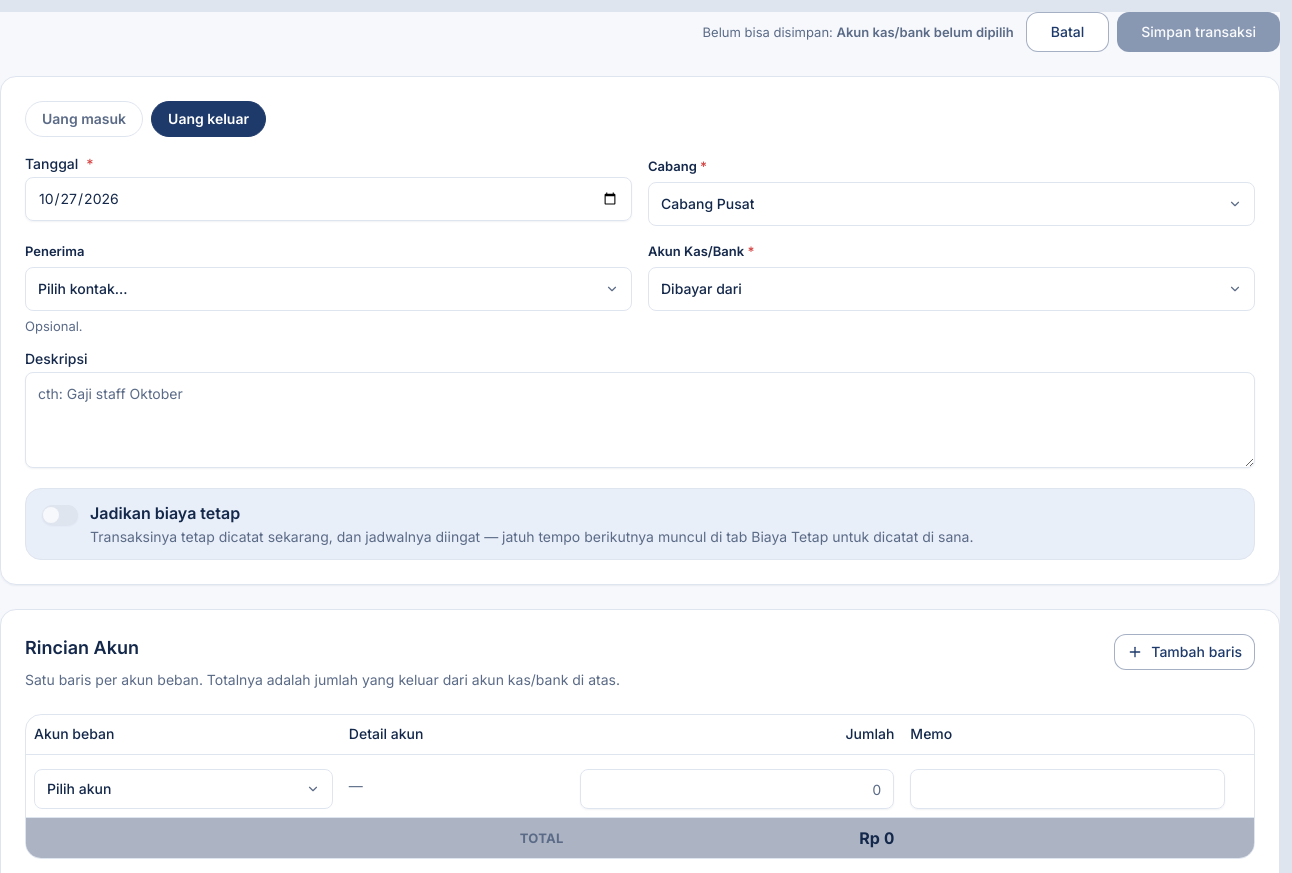
Test: CashTransactionCreateForm › as biaya tetap › blocks Simpan for a role that may not post
The width and height of the screenshot is (1292, 873).
Expected: the button "Simpan transaksi" is shown, [1117,12,1280,52]
Click the switch named "Jadikan biaya tetap": (60, 514) [42,504,78,524]
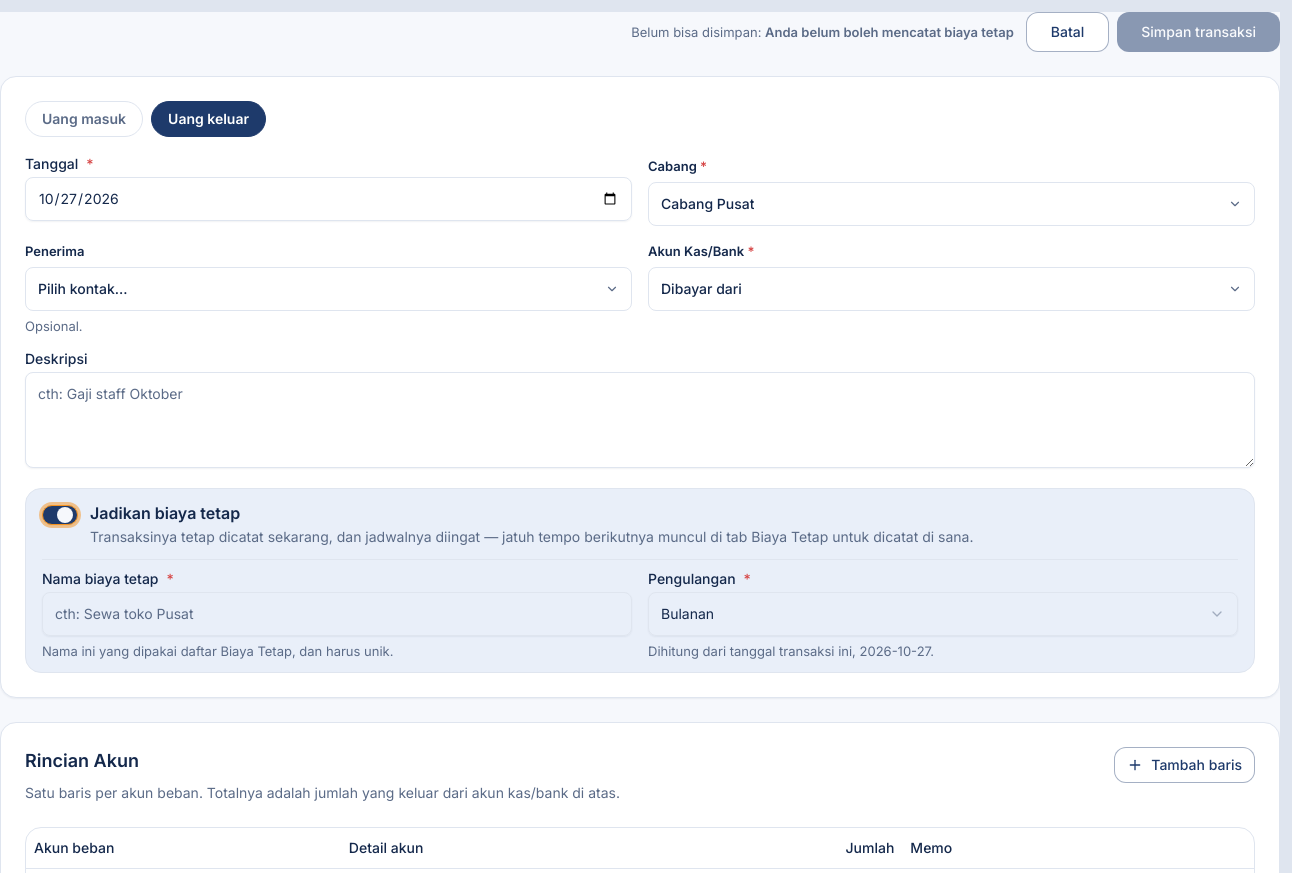
Expected: the text "Anda belum boleh mencatat biaya tetap" is shown, [765,24,1014,40]
